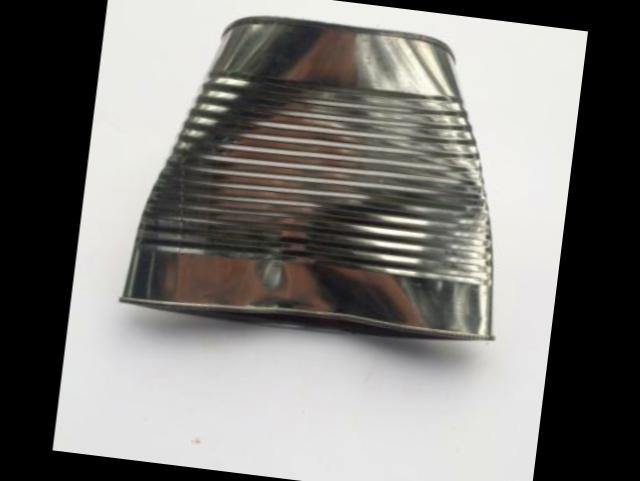metal: (124, 15, 494, 337)
